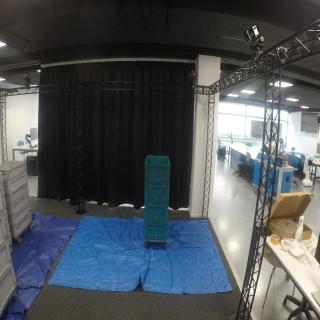BoxB4: (143, 153, 173, 187), (145, 183, 173, 205), (144, 224, 170, 245), (146, 205, 170, 226)
